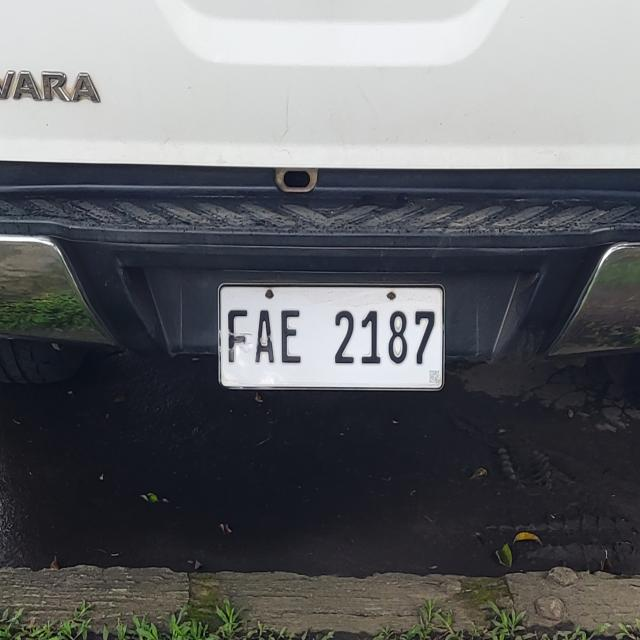plate: (214, 278, 448, 394)
